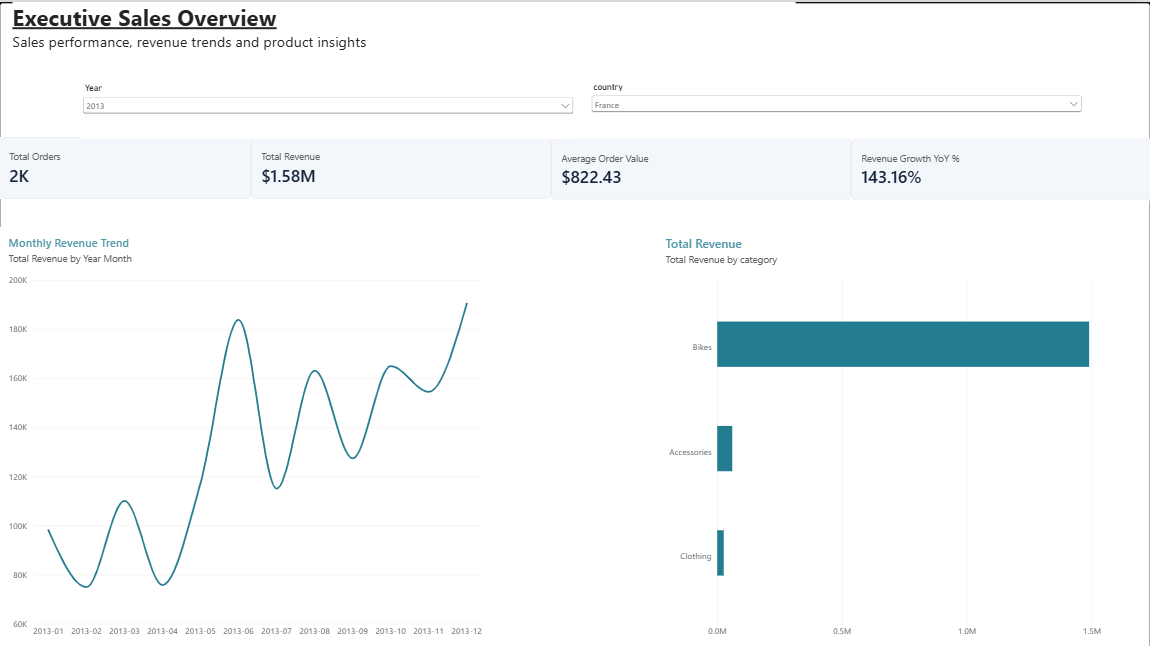

Layout of this report page (visuals, bound fields, positions):
{"tool":"powerbi","page":{"name":"Executive Overview","canvas":[1920,1080],"ordinal":0},"visuals":[{"type":"cardVisual","fields":{"Data":["_Measures.Total Revenue"]},"box":[420,226,500,103.3],"z":0},{"type":"cardVisual","fields":{"Data":["_Measures.Total Orders"]},"box":[0,226,420,103.3],"z":1000},{"type":"cardVisual","fields":{"Data":["_Measures.Average Order Value"]},"box":[920,226.7,500,103.3],"z":2000},{"type":"cardVisual","fields":{"Data":["_Measures.Revenue Growth YoY %"]},"box":[1420,226.7,500,103.3],"z":3000},{"type":"lineChart","title":"Monthly Revenue Trend","fields":{"Category":["DimDate.Year Month"],"Y":["_Measures.Total Revenue"]},"box":[0,375,825,705],"z":4000},{"type":"clusteredBarChart","title":"Total Revenue","fields":{"Category":["gold dim_products.category"],"Y":["_Measures.Total Revenue"]},"box":[1095,375,800,705],"z":5000},{"type":"slicer","fields":{"Values":["DimDate.Year"]},"box":[133.8,133.8,826.7,93.3],"z":6000},{"type":"slicer","fields":{"Values":["gold dim_customers.country"]},"box":[983.3,133.3,826.7,93.3],"z":7000},{"type":"textbox","box":[22.5,0,1305,130],"z":8000}]}

Visuals, with their boxes in screenshot pixels (x1, y1, x2, y2), scaled from the page's 1920x1080 canvas onto the 1150x646 screenshot:
cardVisual - _Measures.Total Revenue: (x1=252, y1=135, x2=551, y2=197)
cardVisual - _Measures.Total Orders: (x1=0, y1=135, x2=252, y2=197)
cardVisual - _Measures.Average Order Value: (x1=551, y1=136, x2=851, y2=197)
cardVisual - _Measures.Revenue Growth YoY %: (x1=851, y1=136, x2=1149, y2=197)
"Monthly Revenue Trend" lineChart: (x1=0, y1=224, x2=494, y2=645)
"Total Revenue" clusteredBarChart: (x1=656, y1=224, x2=1135, y2=645)
slicer - DimDate.Year: (x1=80, y1=80, x2=575, y2=136)
slicer - gold dim_customers.country: (x1=589, y1=80, x2=1084, y2=136)
textbox: (x1=13, y1=0, x2=795, y2=78)
